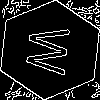W: (25, 25, 80, 77)
